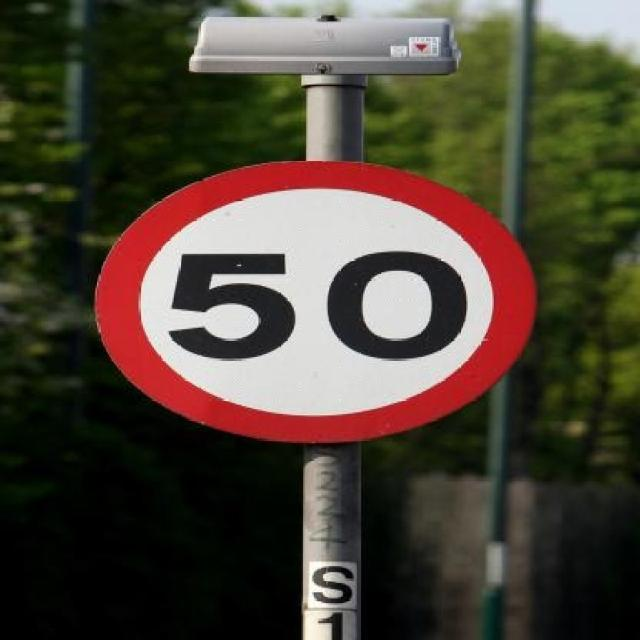forb_speed_over_50: (124, 168, 533, 441)
